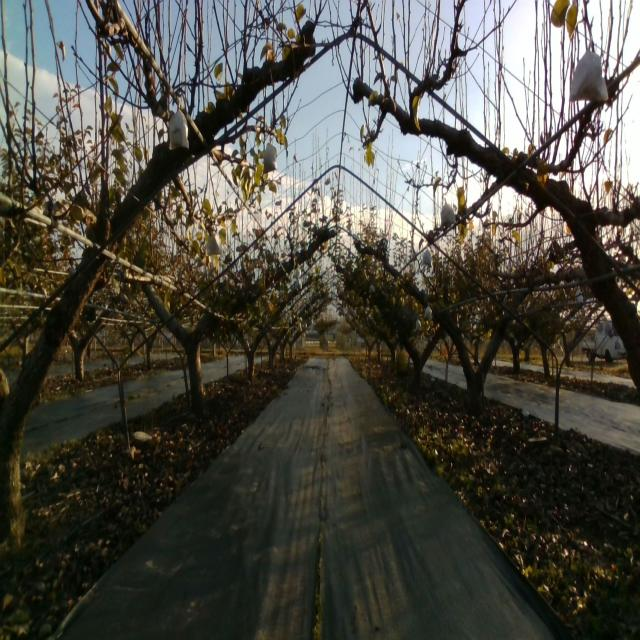pearbags: (569, 36, 609, 104), (168, 96, 190, 153), (262, 138, 278, 175), (205, 229, 224, 255), (441, 197, 456, 227)
